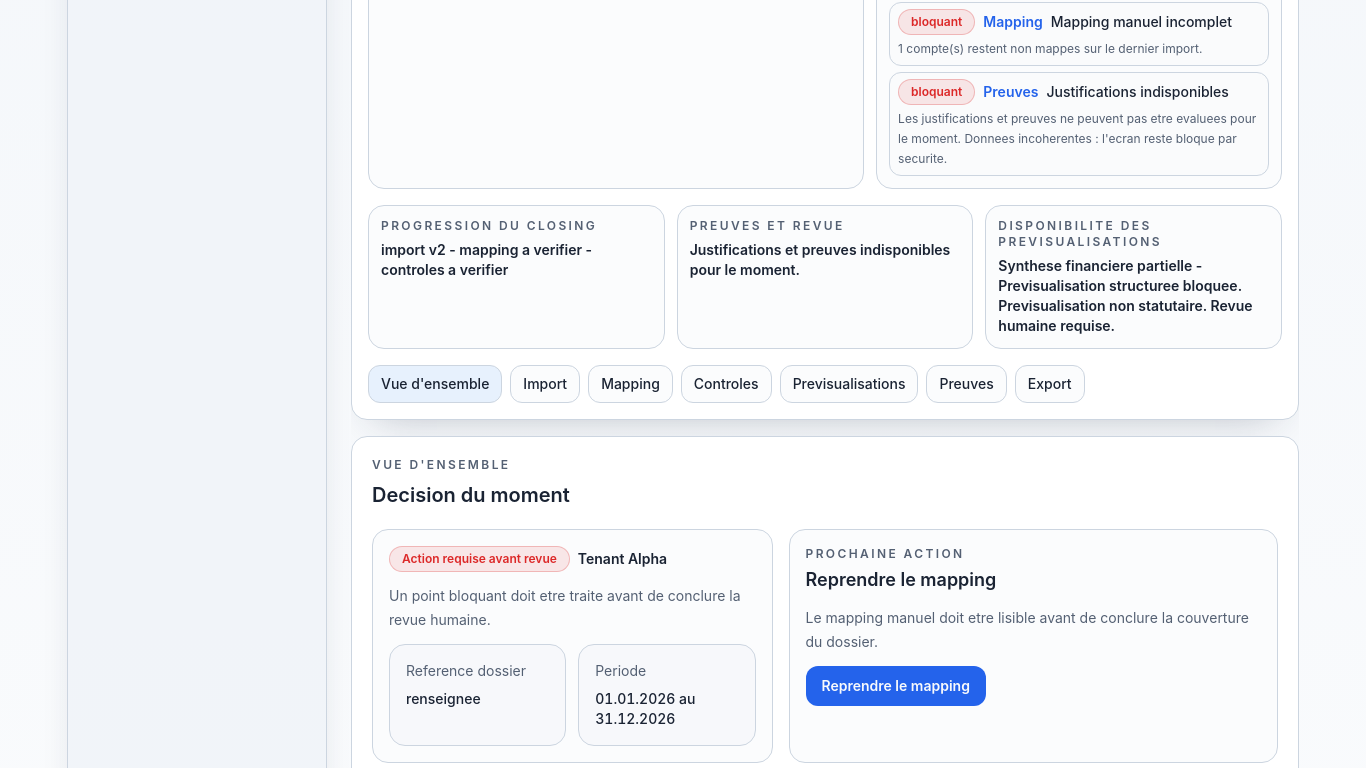
Test: router manual mapping › renders the exact mapping read state 'authentification requise'
The image size is (1366, 768).
(page scrolled)
Click the tab "Mapping": coordinates (630, 384) [588,365,673,403]
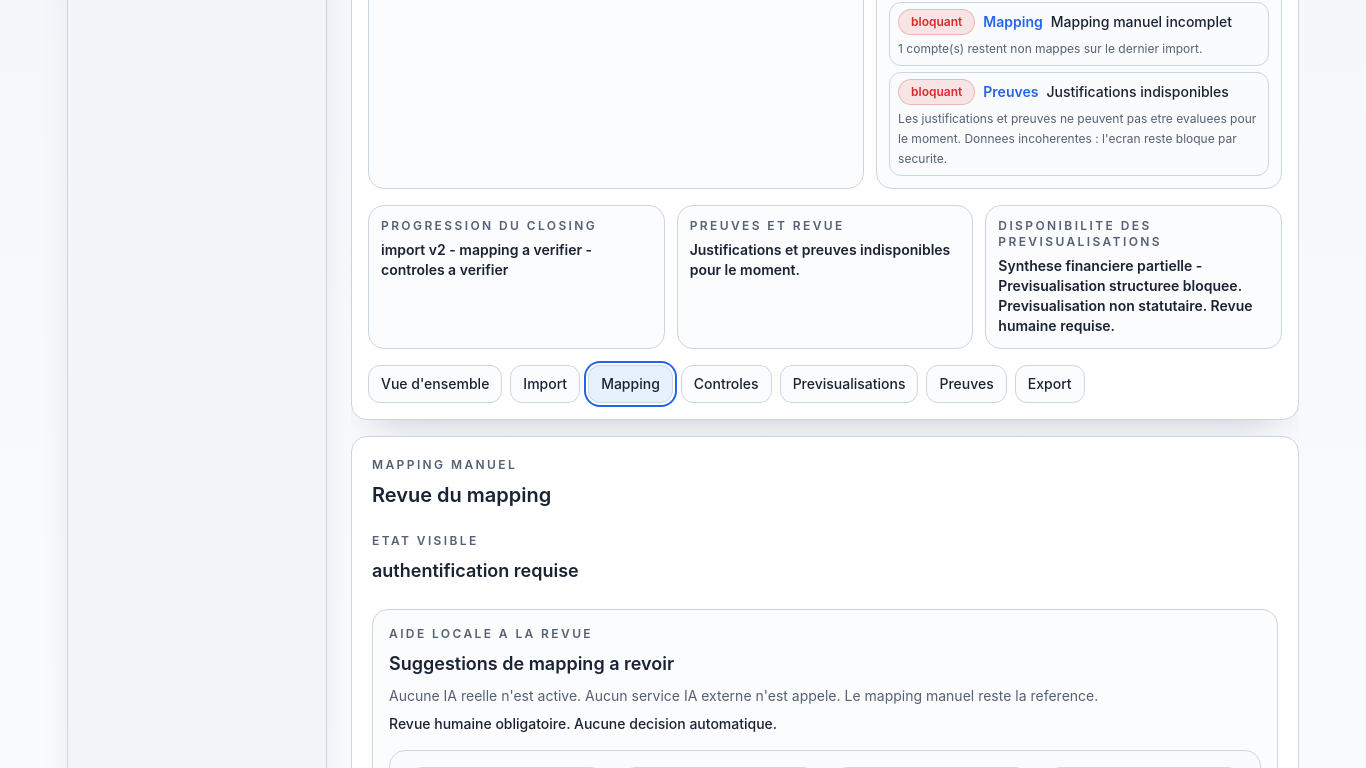
Expected: the tab "Controles" is shown, [681,365,772,403]
Now the text "authentification requise" is shown, box [372,560,579,581]
